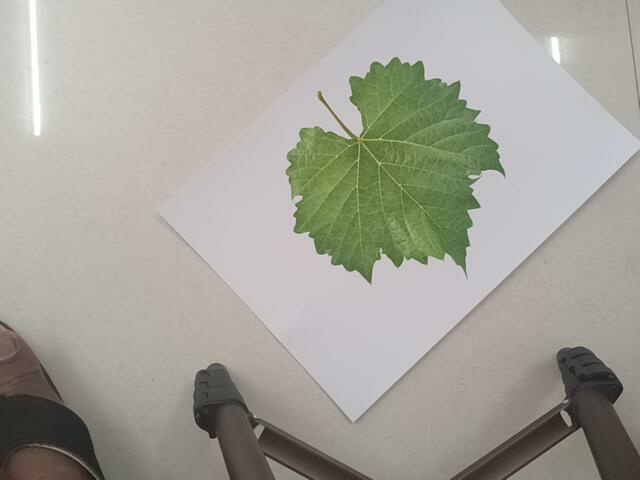Grape_Healthy: (280, 56, 530, 281)
